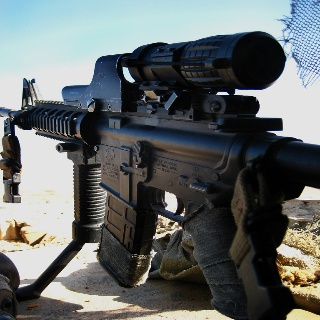rifle: (1, 31, 320, 320)
